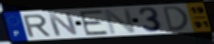3: (138, 7, 165, 34)
D: (161, 5, 190, 33)
E: (78, 9, 110, 37)
N: (103, 7, 138, 35), (46, 11, 80, 37)
R: (21, 13, 53, 38)
